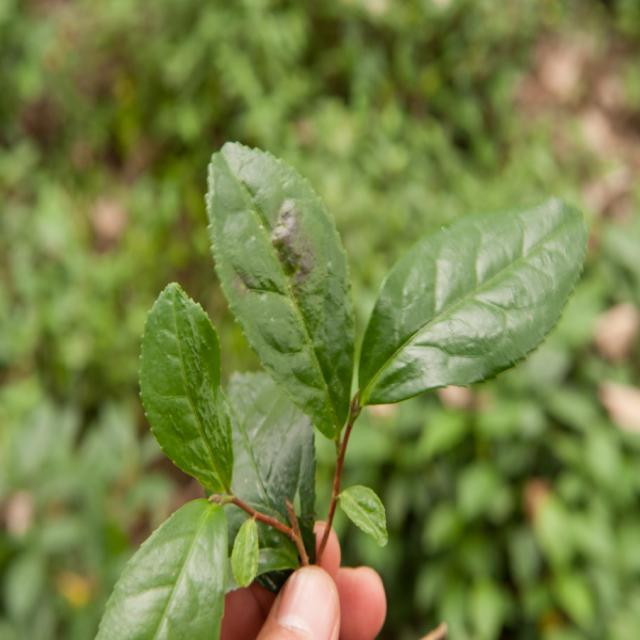Tea exobasidium blight: (242, 178, 330, 291)
